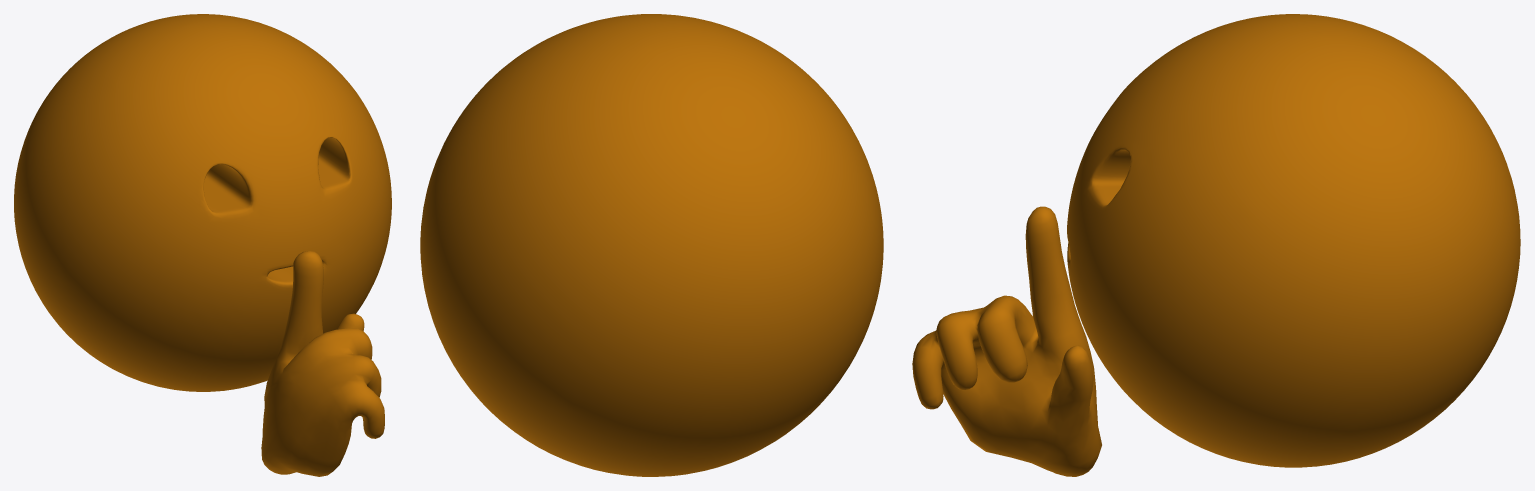
File: silence  FBX.FBX
3 views of the same model, side by side, from view 1: azimuth 30°, elevation 25°; view 2: azimuth 150°, elevation 25°; view 3: azimuth 270°, elevation 25° (orthographic). The views are drawn at different scales.
Parts seen in each view (by area): view 1: silence, silence hand; view 2: silence; view 3: silence, silence hand.
Boxes of the visible parts, x1,y1,x2,y2 form: silence: [14, 14, 391, 391]; silence hand: [261, 251, 384, 476]; silence: [420, 14, 883, 476]; silence: [1067, 14, 1520, 467]; silence hand: [912, 206, 1101, 476].
Bounding box in the file's own units: 21.72 × 23.53 × 29.12.
